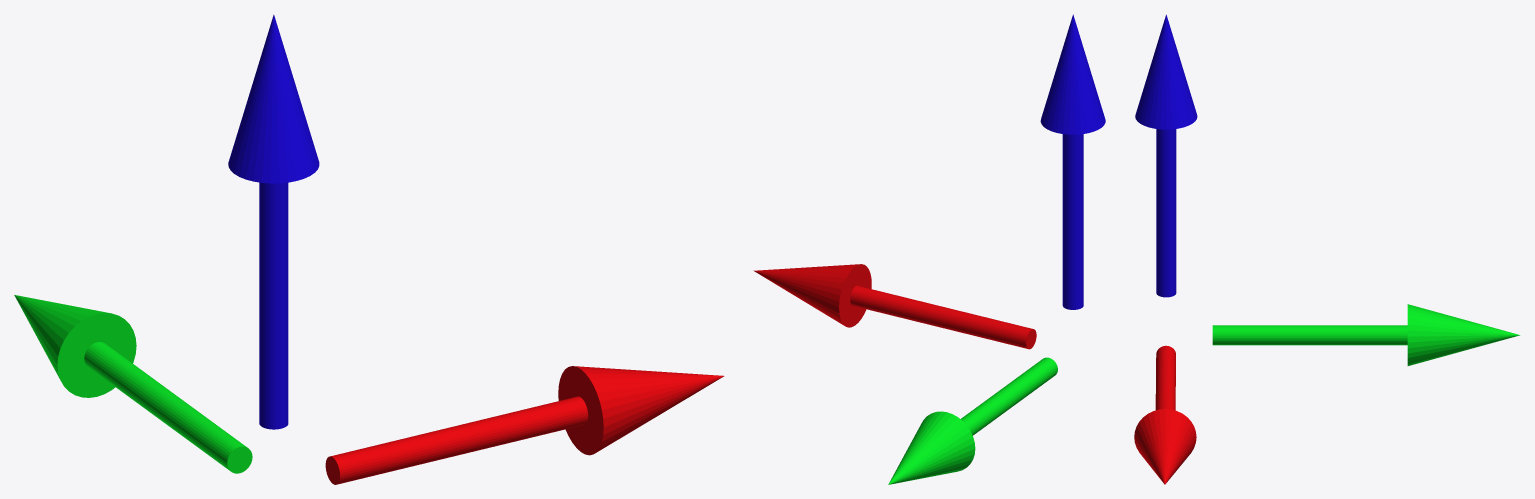
The model's file is giz2.glb.
The picture shows the model from 3 angles, left to right: view 1: azimuth 30°, elevation 25°; view 2: azimuth 150°, elevation 25°; view 3: azimuth 270°, elevation 25°; orthographic projection. The views are drawn at different scales.
Visible parts, largest first — view 1: z, x, y; view 2: z, x, y; view 3: y, z, x.
Part boxes in pixels (box(x1,y1,x2,y2)): z: box(228, 14, 319, 429); x: box(325, 366, 724, 484); y: box(14, 295, 252, 473); z: box(1040, 14, 1105, 309); x: box(753, 264, 1036, 349); y: box(888, 357, 1057, 484); y: box(1212, 304, 1520, 365); z: box(1135, 14, 1197, 297); x: box(1134, 345, 1196, 484).
Bounding box in the file's own units: 4.34 × 4.34 × 4.35.
